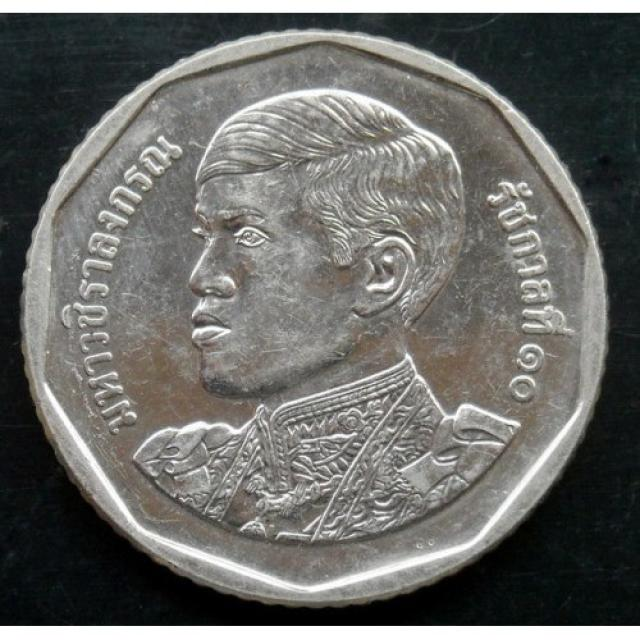5 Bath: (16, 24, 614, 611)
